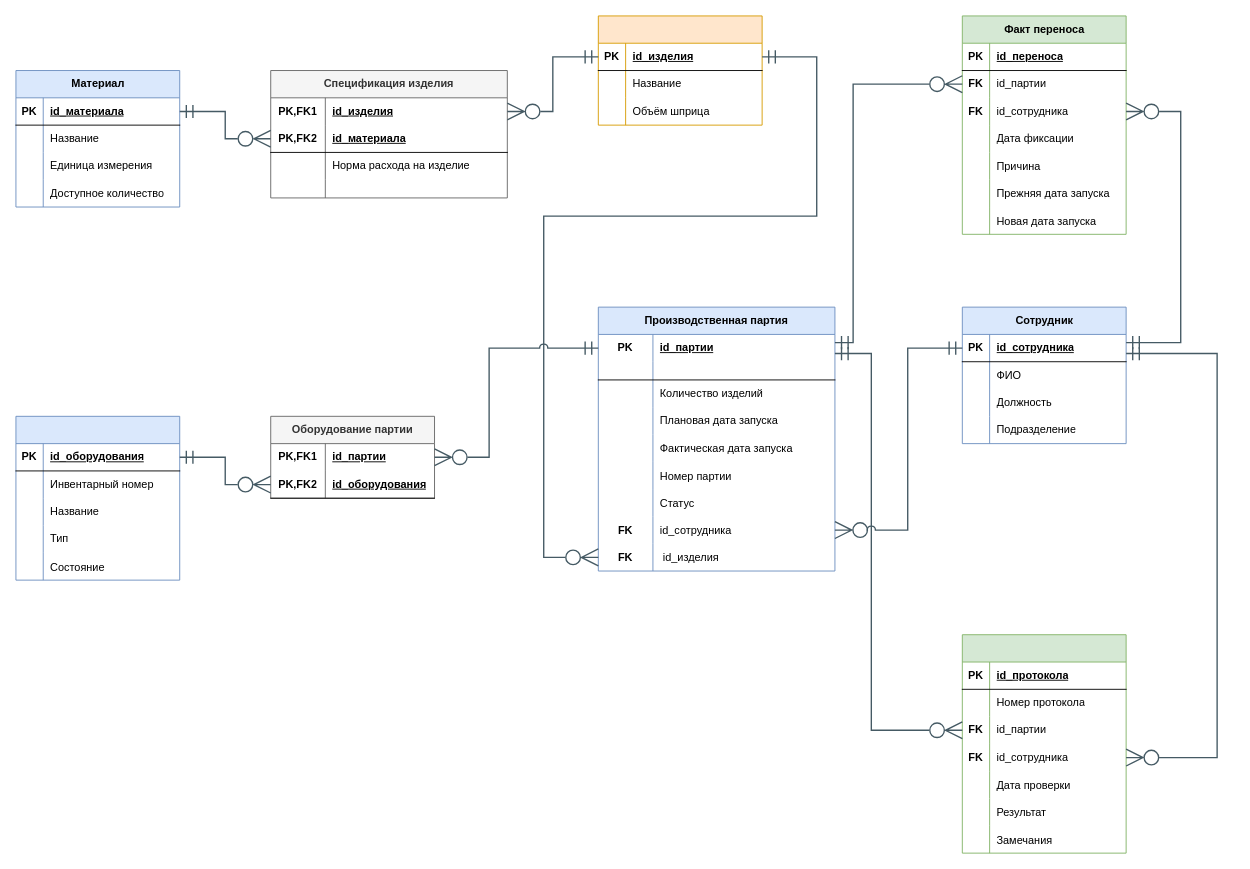
Image size: 1250x869. Some labels were removed from this diagram. Here are the shapes that lost their labels. From the top down, the box of each, then its label:
(597, 15, 762, 125): Изделие
(15, 415, 180, 580): Оборудование
(961, 634, 1126, 853): Протокол контроля
